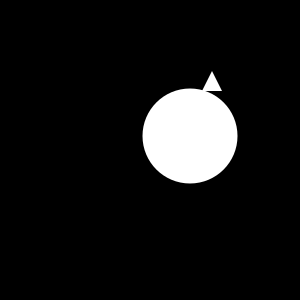rectangle: (142, 88, 238, 183)
triangle: (202, 71, 222, 91)
